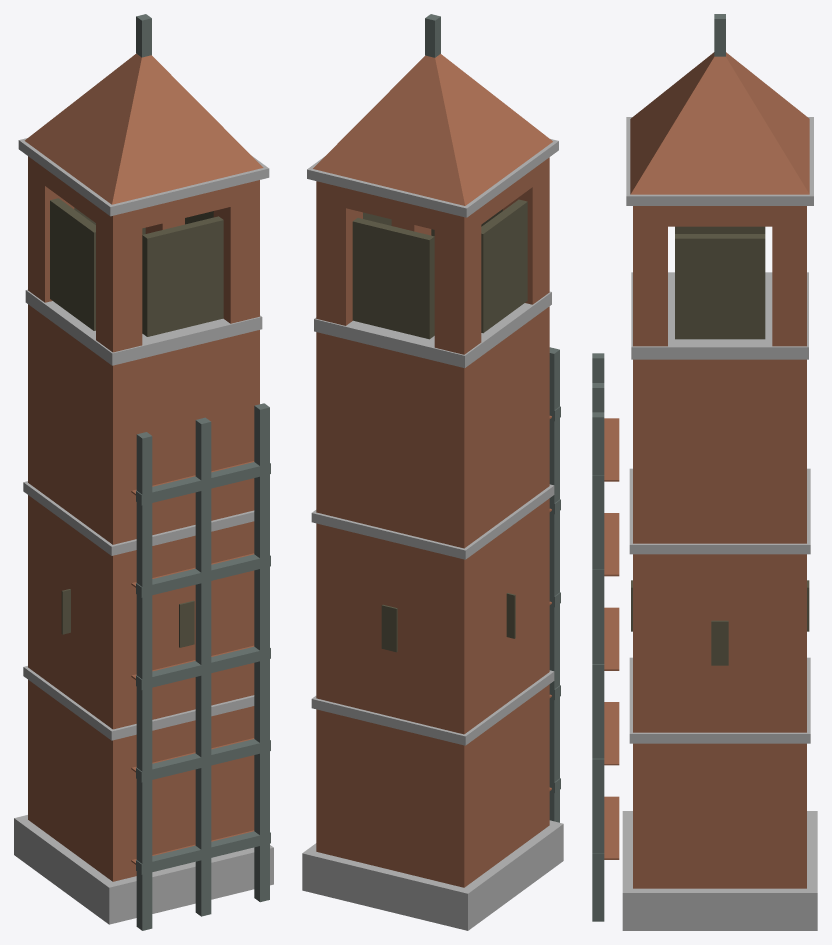
Rendered from SM_Campanario_v4_Andamio_LOD1.fbx.
3 views of the same model, side by side, from view 1: azimuth 30°, elevation 25°; view 2: azimuth 150°, elevation 25°; view 3: azimuth 270°, elevation 25° (orthographic). The views are drawn at different scales.
Parts seen in each view (by area): view 1: SM_pueblo_valenciano_v24_LOD1; view 2: SM_pueblo_valenciano_v24_LOD1; view 3: SM_pueblo_valenciano_v24_LOD1.
Part boxes in pixels (x1,y1,x2,y2): SM_pueblo_valenciano_v24_LOD1: (14, 14, 273, 930); SM_pueblo_valenciano_v24_LOD1: (302, 14, 563, 930); SM_pueblo_valenciano_v24_LOD1: (592, 14, 817, 930).
Bounding box in the file's own units: 5.6 × 27.7 × 6.47.
